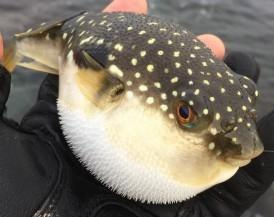fish: (9, 12, 263, 203)
